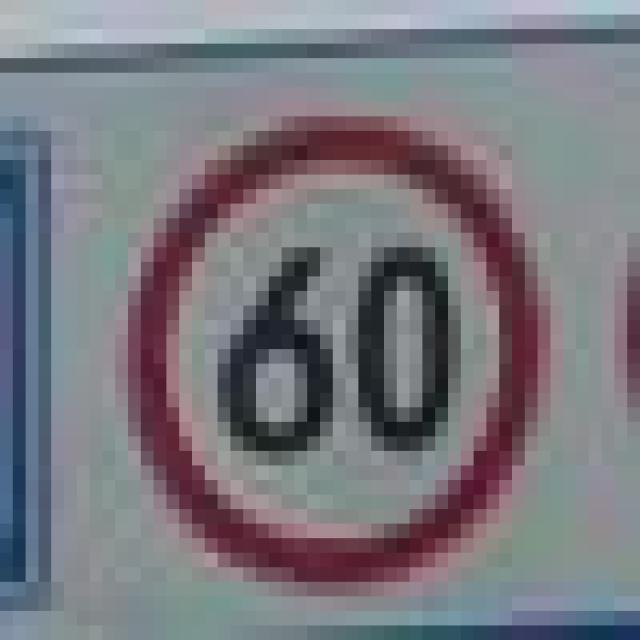speed_limit_40: (115, 102, 525, 567)
